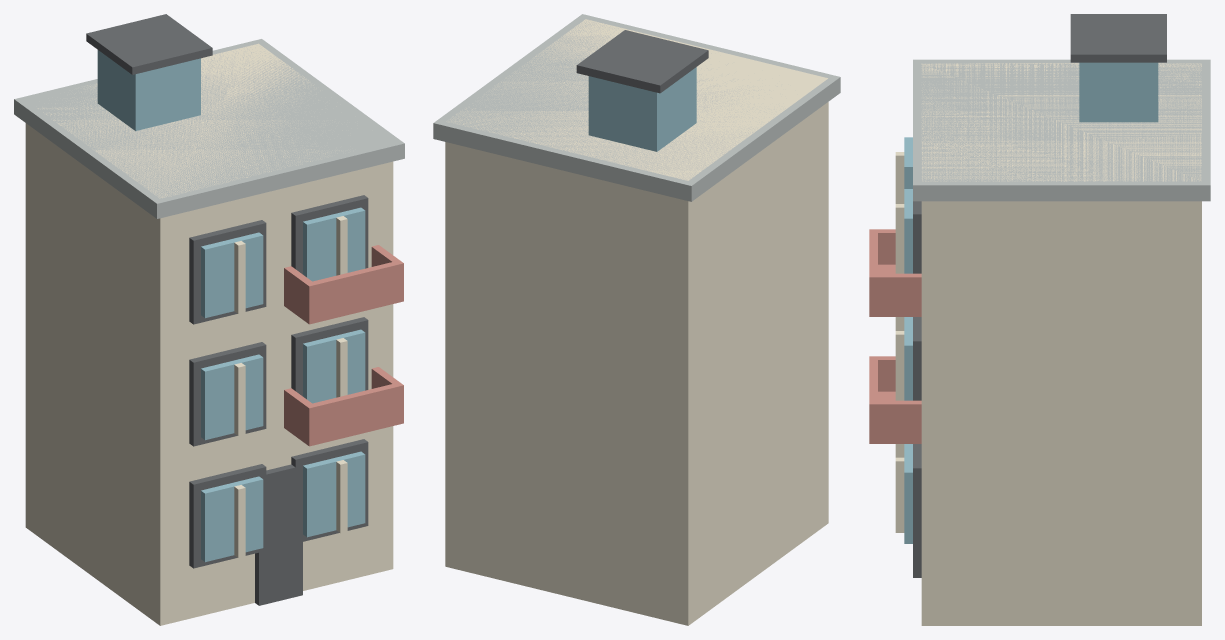
File: pocket-borough-apartment-block__277.glb
3 renders of one model, left to right at view 1: azimuth 30°, elevation 25°; view 2: azimuth 150°, elevation 25°; view 3: azimuth 270°, elevation 25°, orthographic. The views are drawn at different scales.
Parts seen in each view (by area): view 1: pocket-borough-apartment-block; view 2: pocket-borough-apartment-block; view 3: pocket-borough-apartment-block.
Part boxes in pixels (left/top/right/bottom): pocket-borough-apartment-block: left=14, top=14, right=404, bottom=625; pocket-borough-apartment-block: left=433, top=14, right=840, bottom=625; pocket-borough-apartment-block: left=869, top=14, right=1210, bottom=625.
Size of the model in its own units: 4.25 by 8.12 by 4.88.
